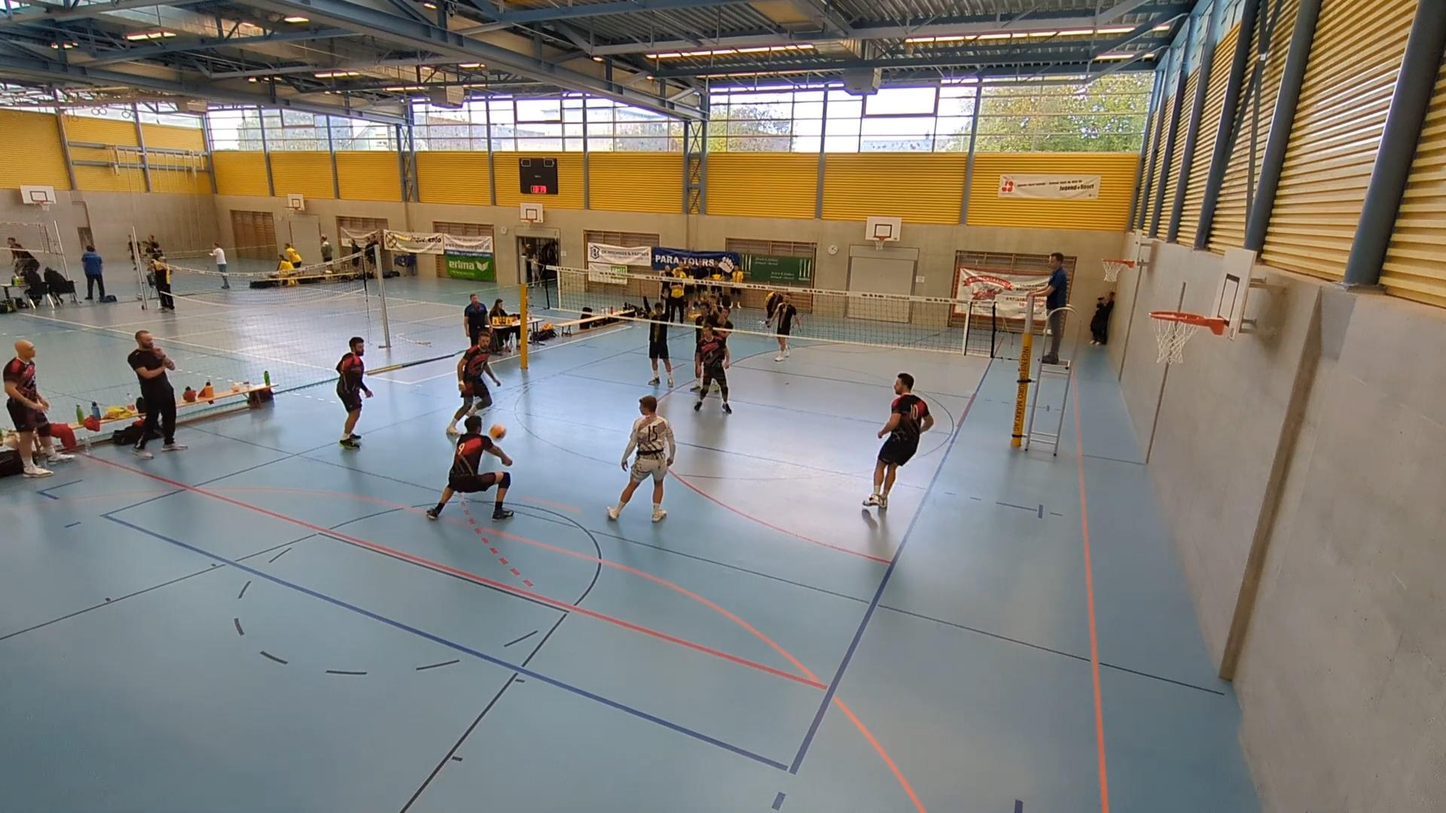Player: (863, 373, 933, 508), (426, 416, 512, 519), (607, 396, 675, 522), (446, 331, 499, 434), (336, 336, 372, 449), (694, 324, 732, 413), (648, 300, 673, 385), (773, 294, 801, 361), (691, 306, 713, 391), (761, 291, 782, 324)
Receive: (429, 413, 516, 524)
ball: (488, 421, 507, 441)
